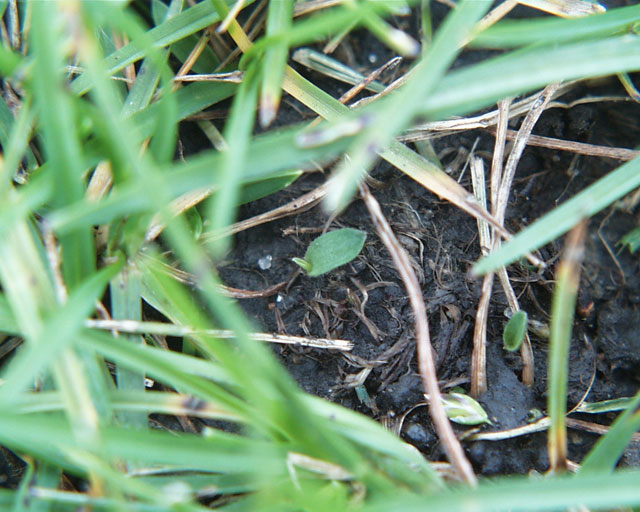crabgrass: (5, 11, 311, 504)
